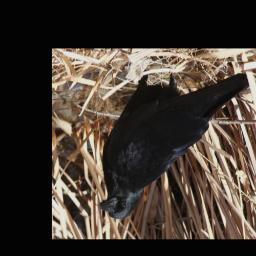Crow: (96, 72, 250, 220)
